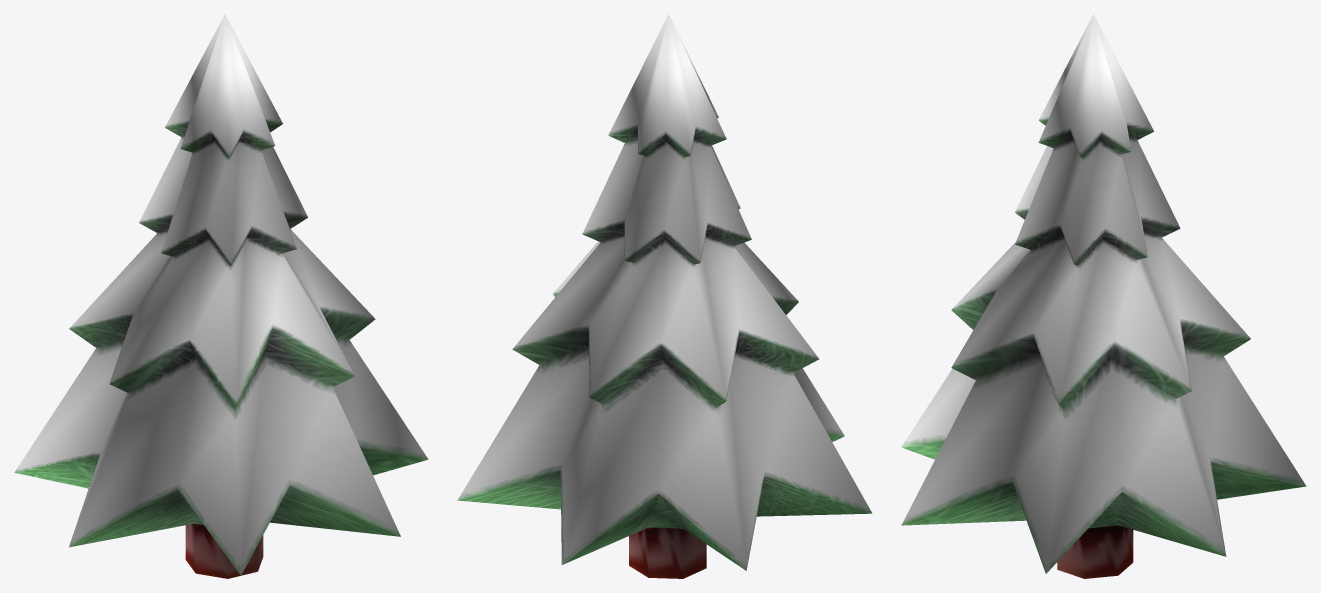
The model's file is Tree_Pine.glb.
The picture shows the model from 3 angles, left to right: view 1: azimuth 30°, elevation 25°; view 2: azimuth 150°, elevation 25°; view 3: azimuth 270°, elevation 25°; orthographic projection.
Parts seen in each view (by area): view 1: Cube; view 2: Cube; view 3: Cube.
Part boxes in pixels (x1,y1,x2,y2): Cube: (14,14,428,578); Cube: (457,14,872,578); Cube: (901,14,1306,578).
Bounding box in the file's own units: 2.71 × 3.94 × 2.64.
Materials: 2 (2 with a texture image).
